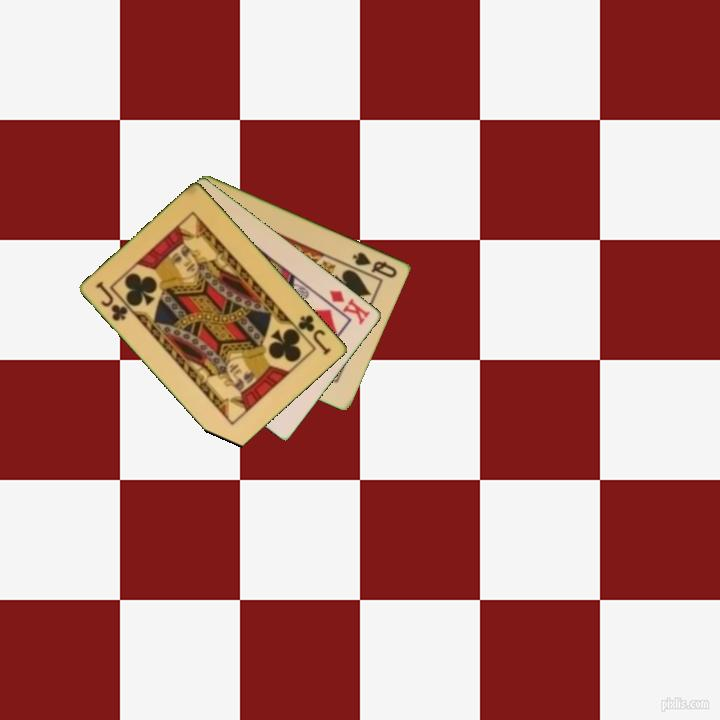Jc: (295, 311, 334, 358), (92, 277, 131, 324)
Kd: (326, 286, 373, 328)
Qs: (349, 248, 400, 281)
